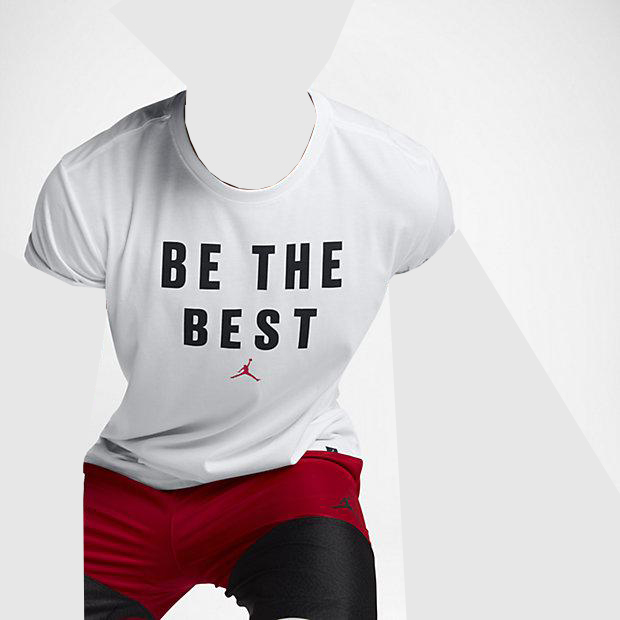teeshirt: (13, 88, 467, 483)
